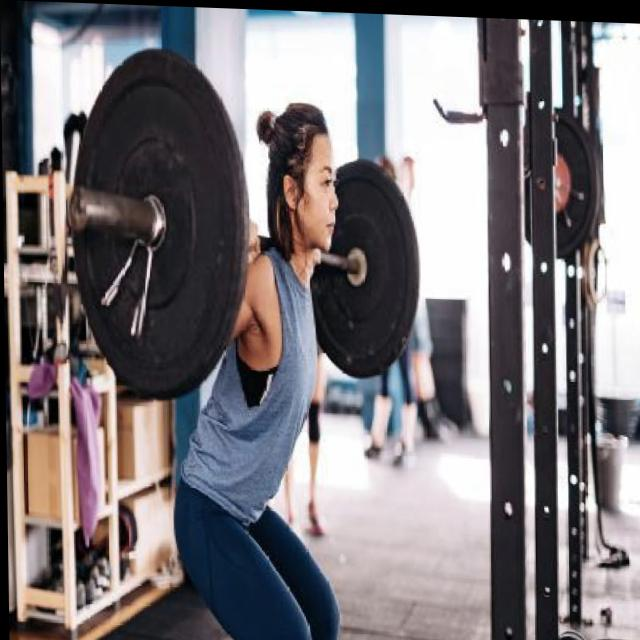barbell: (56, 43, 251, 405)
